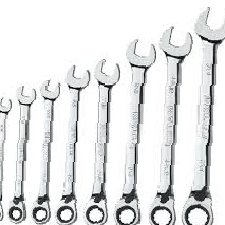Wrench: (128, 5, 225, 225), (3, 64, 116, 225)
